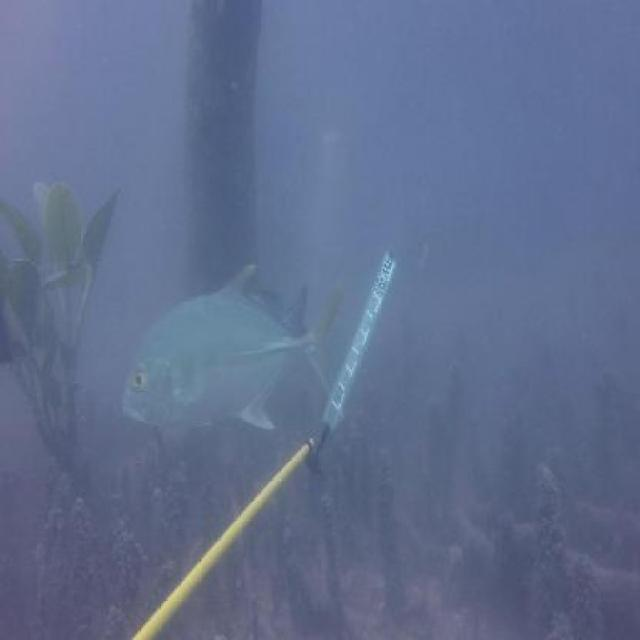Caranx: (120, 263, 346, 442)
acanthopagrus_palmaris: (247, 276, 316, 342), (0, 250, 28, 381)
